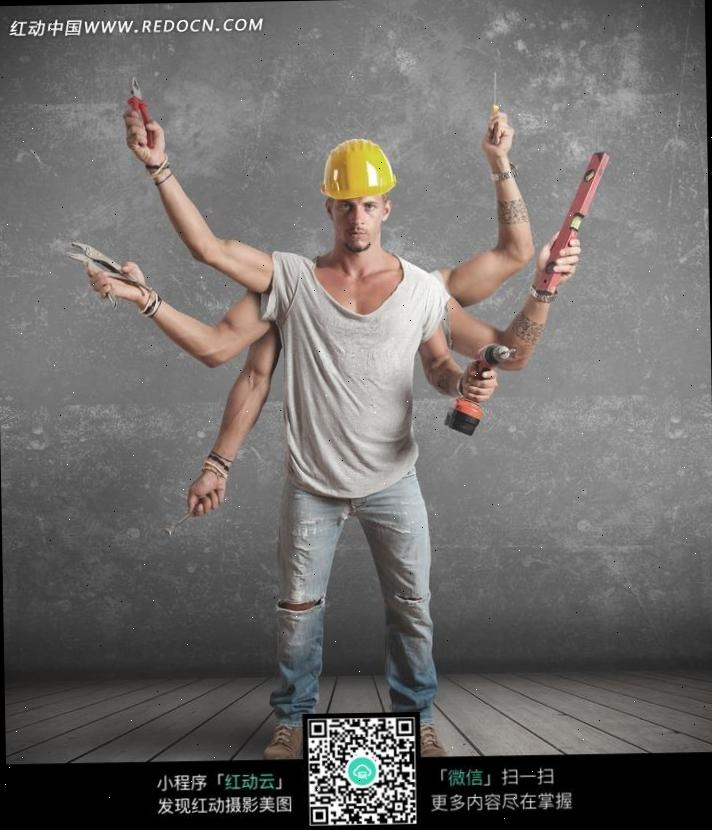helmet: (323, 135, 402, 209)
no_wear: (276, 251, 437, 472)
